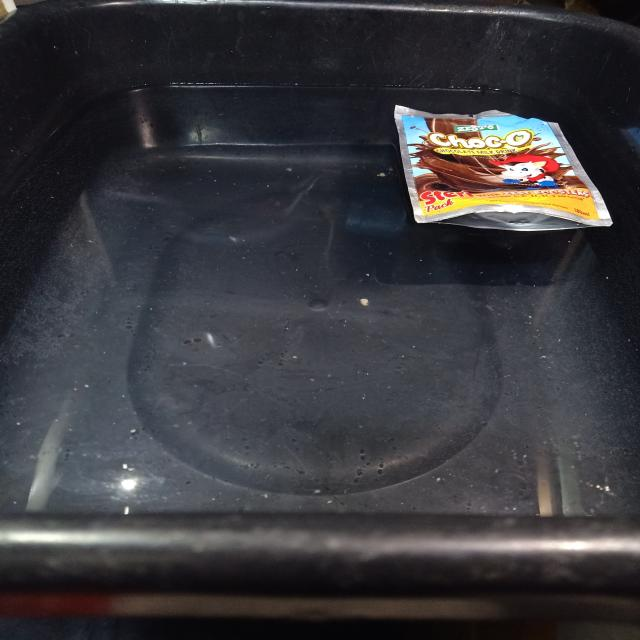Plastic Pouch: (394, 106, 611, 230)
